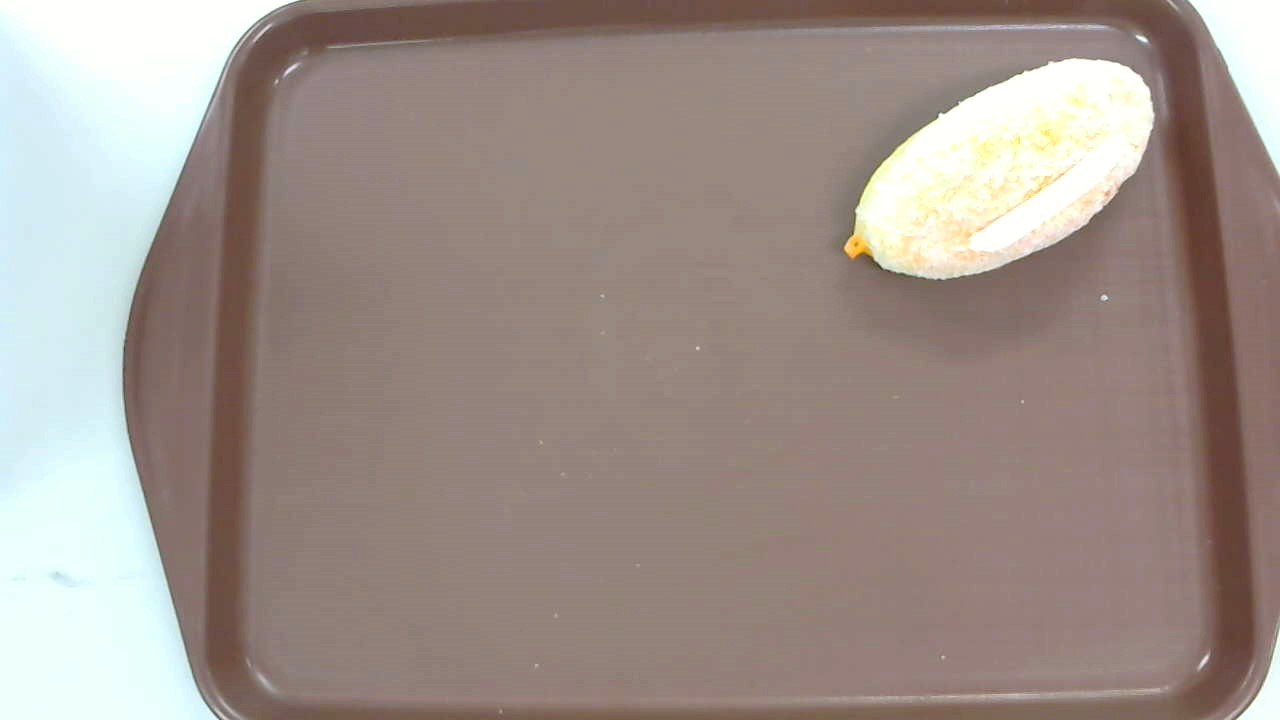coconut: (844, 59, 1155, 282)
